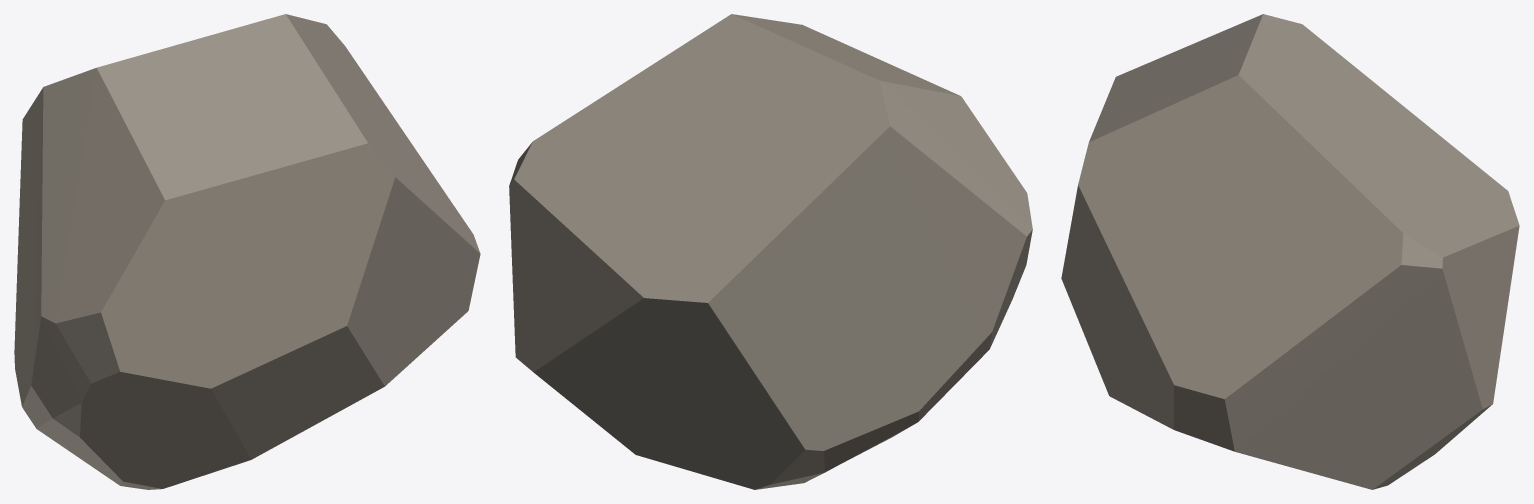
Rendered from FloatingIsland_Dif6_Sc2.fbx.
The picture shows the model from 3 angles, left to right: view 1: azimuth 30°, elevation 25°; view 2: azimuth 150°, elevation 25°; view 3: azimuth 270°, elevation 25°; orthographic projection. The views are drawn at different scales.
Visible parts, largest first — view 1: FloatingIsland_Dif6_Sc2; view 2: FloatingIsland_Dif6_Sc2; view 3: FloatingIsland_Dif6_Sc2.
Boxes of the visible parts, left/top/right/bottom form: FloatingIsland_Dif6_Sc2: left=14, top=14, right=480, bottom=489; FloatingIsland_Dif6_Sc2: left=509, top=14, right=1032, bottom=489; FloatingIsland_Dif6_Sc2: left=1061, top=14, right=1519, bottom=489.
Bounding box in the file's own units: 0.795 × 0.727 × 0.7426.
